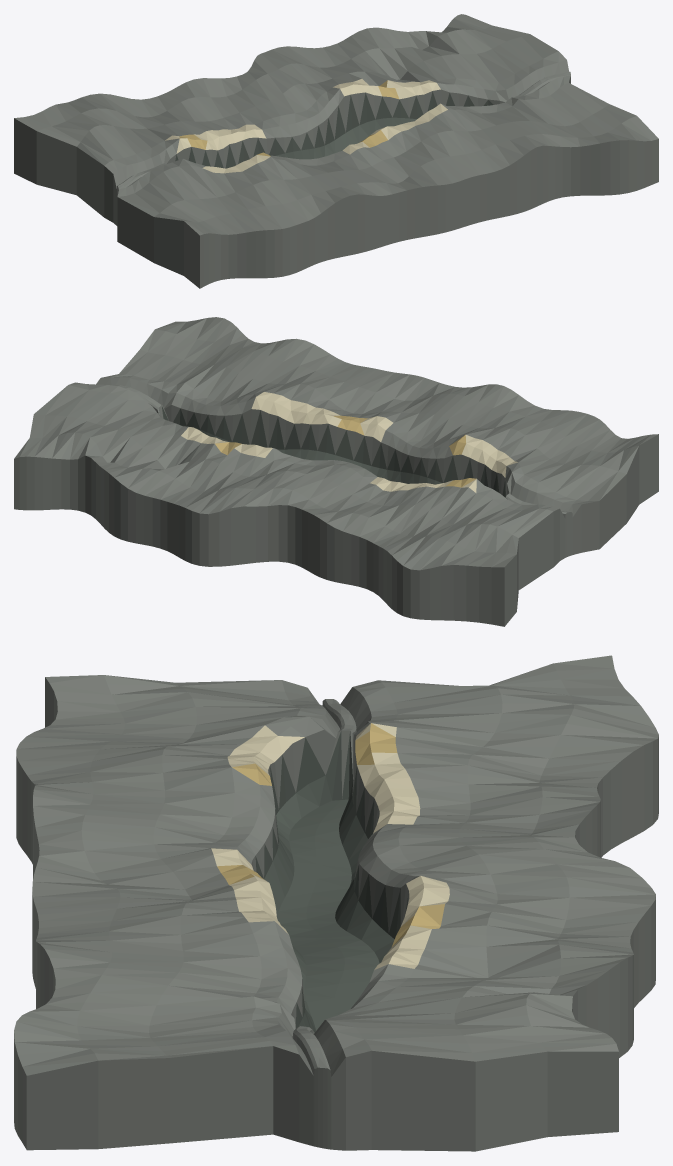
3 views of the same model, one above another, from view 1: azimuth 30°, elevation 25°; view 2: azimuth 150°, elevation 25°; view 3: azimuth 270°, elevation 25° (orthographic). The views are drawn at different scales.
Visible parts, largest first — view 1: single_fractured_terrain_with_crooked_deep_fissure_and_rough; view 2: single_fractured_terrain_with_crooked_deep_fissure_and_rough; view 3: single_fractured_terrain_with_crooked_deep_fissure_and_rough.
Part boxes in pixels (box(x1,y1,x2,y2)): single_fractured_terrain_with_crooked_deep_fissure_and_rough: box(14, 14, 658, 288); single_fractured_terrain_with_crooked_deep_fissure_and_rough: box(14, 317, 658, 626); single_fractured_terrain_with_crooked_deep_fissure_and_rough: box(14, 655, 658, 1151).
Size of the model in its own units: 4.22 by 0.5323 by 2.87.
